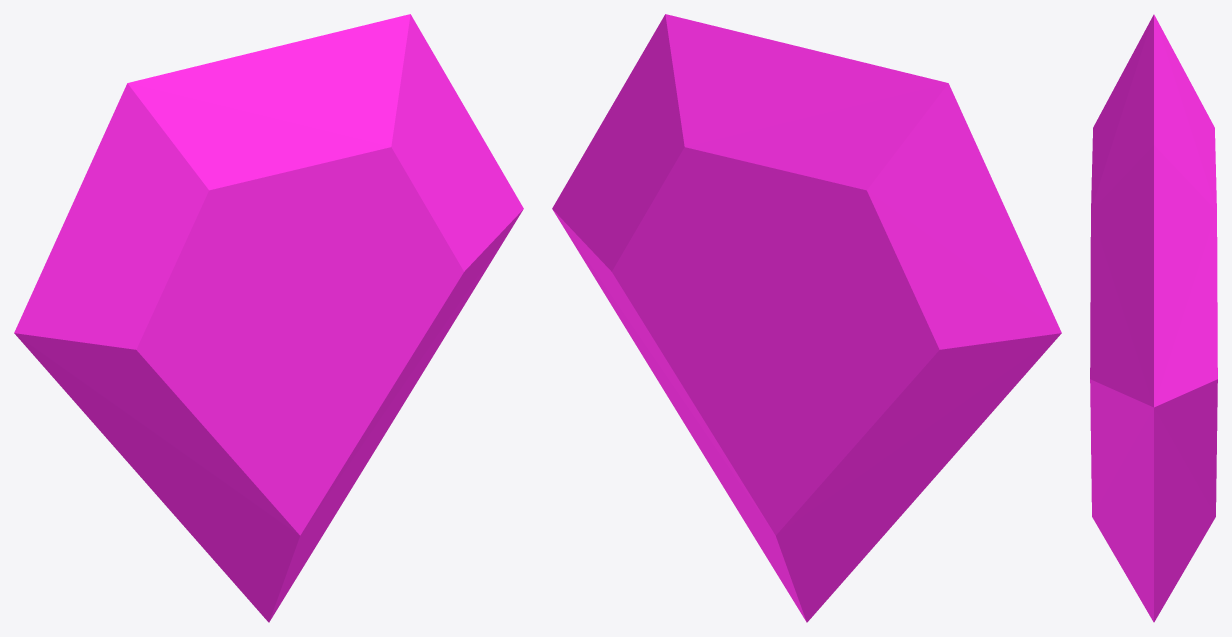
File: fragment_xp.glb
3 renders of one model, left to right at view 1: azimuth 30°, elevation 25°; view 2: azimuth 150°, elevation 25°; view 3: azimuth 270°, elevation 25°, orthographic. The views are drawn at different scales.
Parts seen in each view (by area): view 1: Jewel_01; view 2: Jewel_01; view 3: Jewel_01.
Boxes of the visible parts, x1,y1,x2,y2 form: Jewel_01: (14, 14, 523, 622); Jewel_01: (552, 14, 1061, 622); Jewel_01: (1090, 14, 1217, 622).
Bounding box in the file's own units: 0.4506 × 0.4851 × 0.1034.
